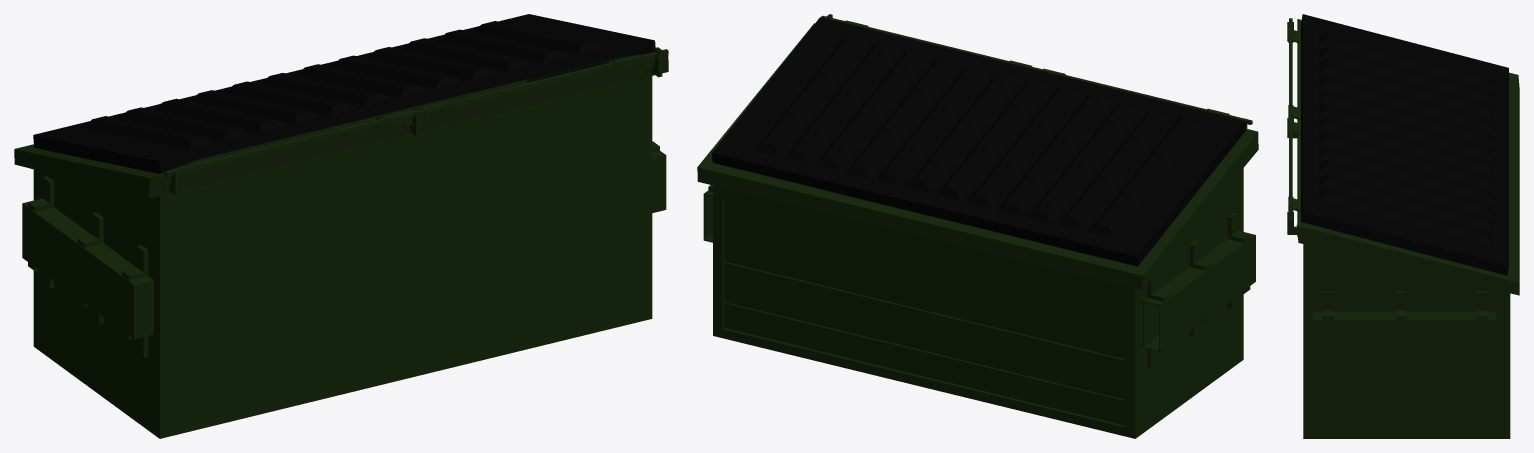
Rendered from bigbin2.fbx.
The picture shows the model from 3 angles, left to right: view 1: azimuth 30°, elevation 25°; view 2: azimuth 150°, elevation 25°; view 3: azimuth 270°, elevation 25°; orthographic projection. The views are drawn at different scales.
Parts seen in each view (by area): view 1: big bin, Box009, Box014, Box011, Box001; view 2: big bin, Box009, Box014, Box011; view 3: Box009, big bin, Box001, Box011, Box046, Box047, Box048.
Part boxes in pixels (x1,y1,x2,y2): big bin: [14, 54, 668, 438]; Box009: [33, 14, 655, 173]; Box014: [22, 198, 153, 339]; Box011: [165, 49, 668, 176]; Box001: [652, 151, 666, 212]; big bin: [697, 23, 1258, 438]; Box009: [712, 17, 1245, 266]; Box014: [1143, 231, 1255, 351]; Box011: [820, 15, 1252, 124]; Box009: [1301, 14, 1508, 275]; big bin: [1297, 19, 1519, 438]; Box001: [1312, 312, 1495, 364]; Box011: [1288, 18, 1300, 221]; Box046: [1476, 291, 1487, 320]; Box047: [1395, 291, 1406, 320]; Box048: [1322, 291, 1333, 320].
Size of the model in its own units: 365 by 182 by 169.
